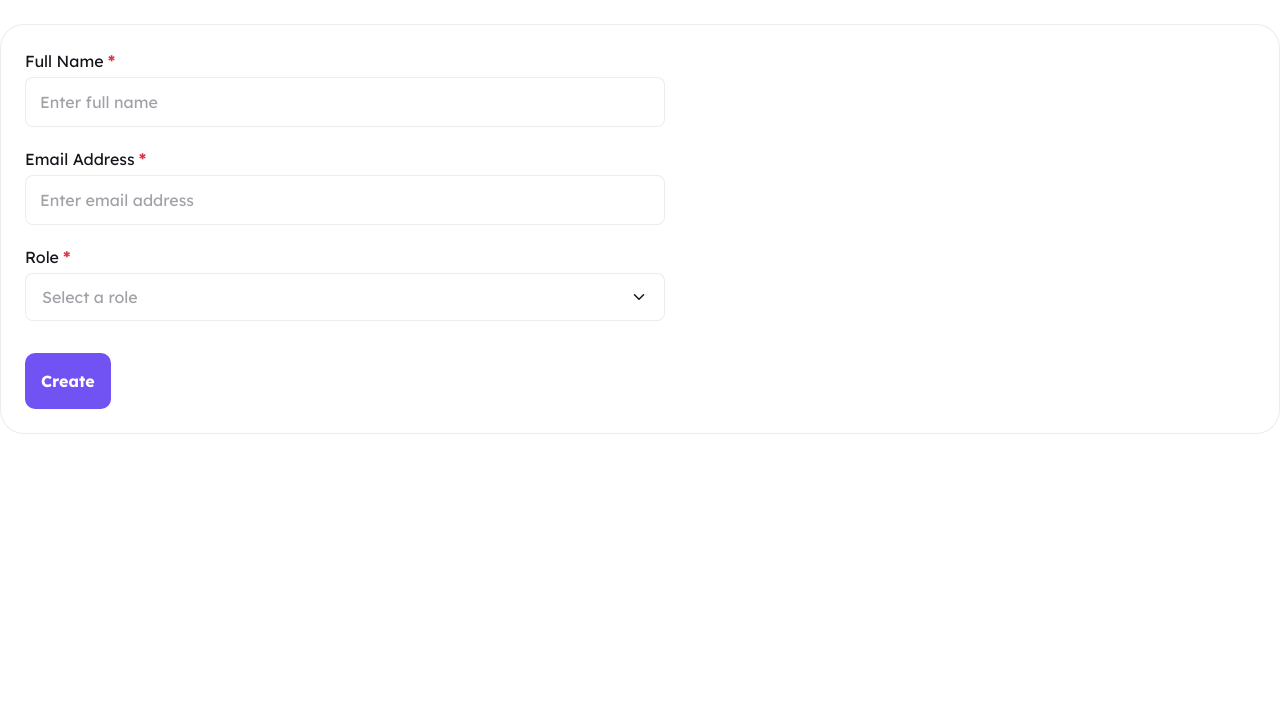
CreateUserDashboard › validation › clears a field error as soon as that field is edited
The image size is (1280, 720).
Click the button "Create" at (68, 381), box [25,353,111,409]
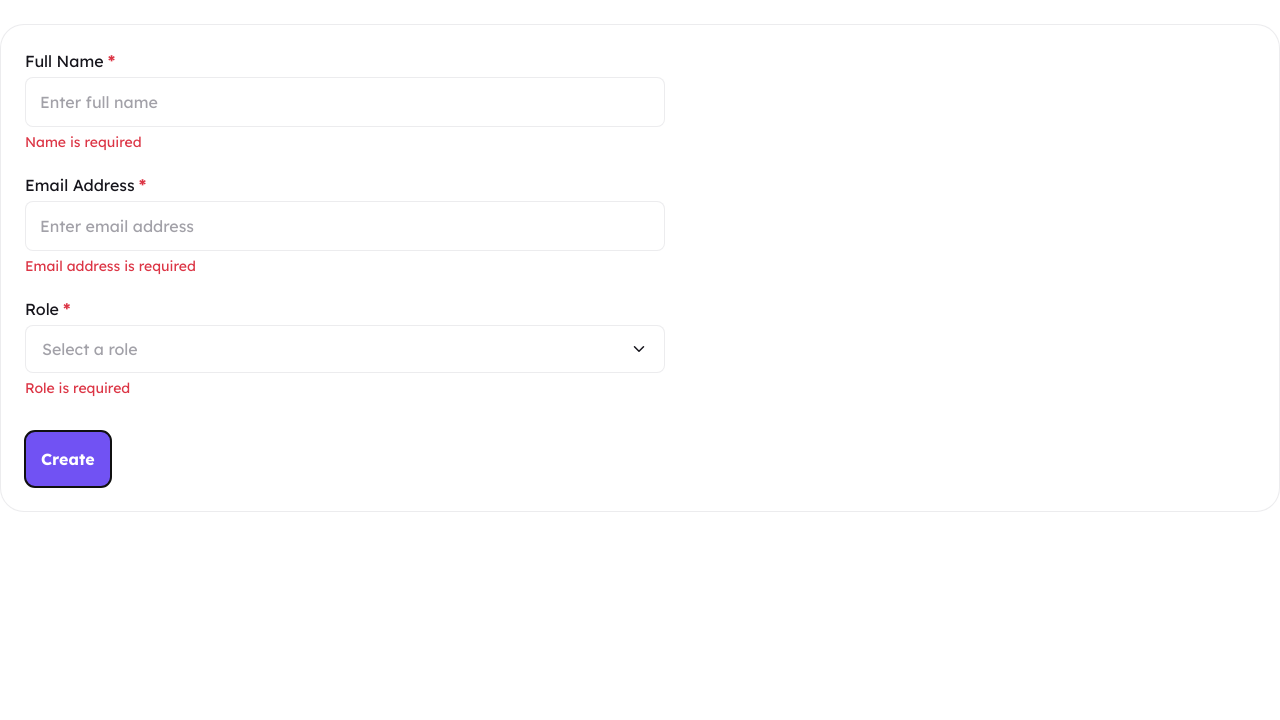
Now the text "Name is required" is shown, box [25,133,142,151]
Type "J" into the field with placeholder "Enter full name" at (345, 102), box [26,78,664,126]
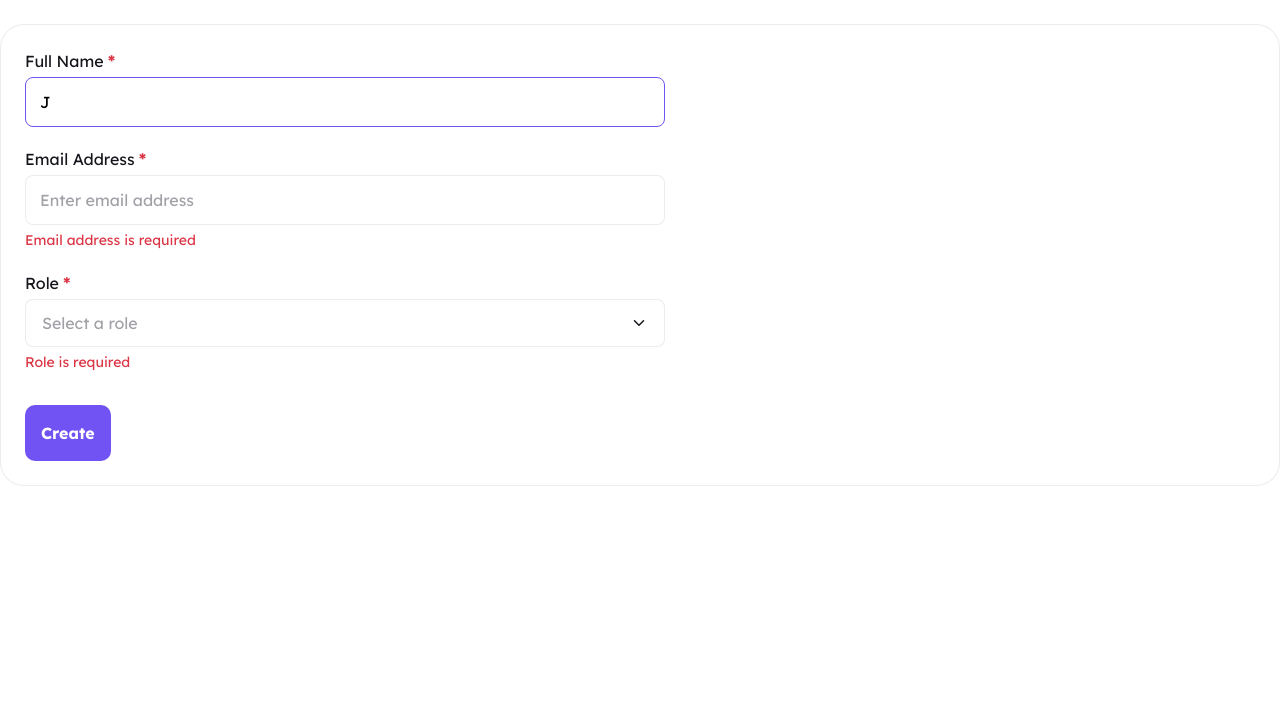
Now the text "Email address is required" is shown, box [25,231,196,249]
Now the text "Name is required" is gone
